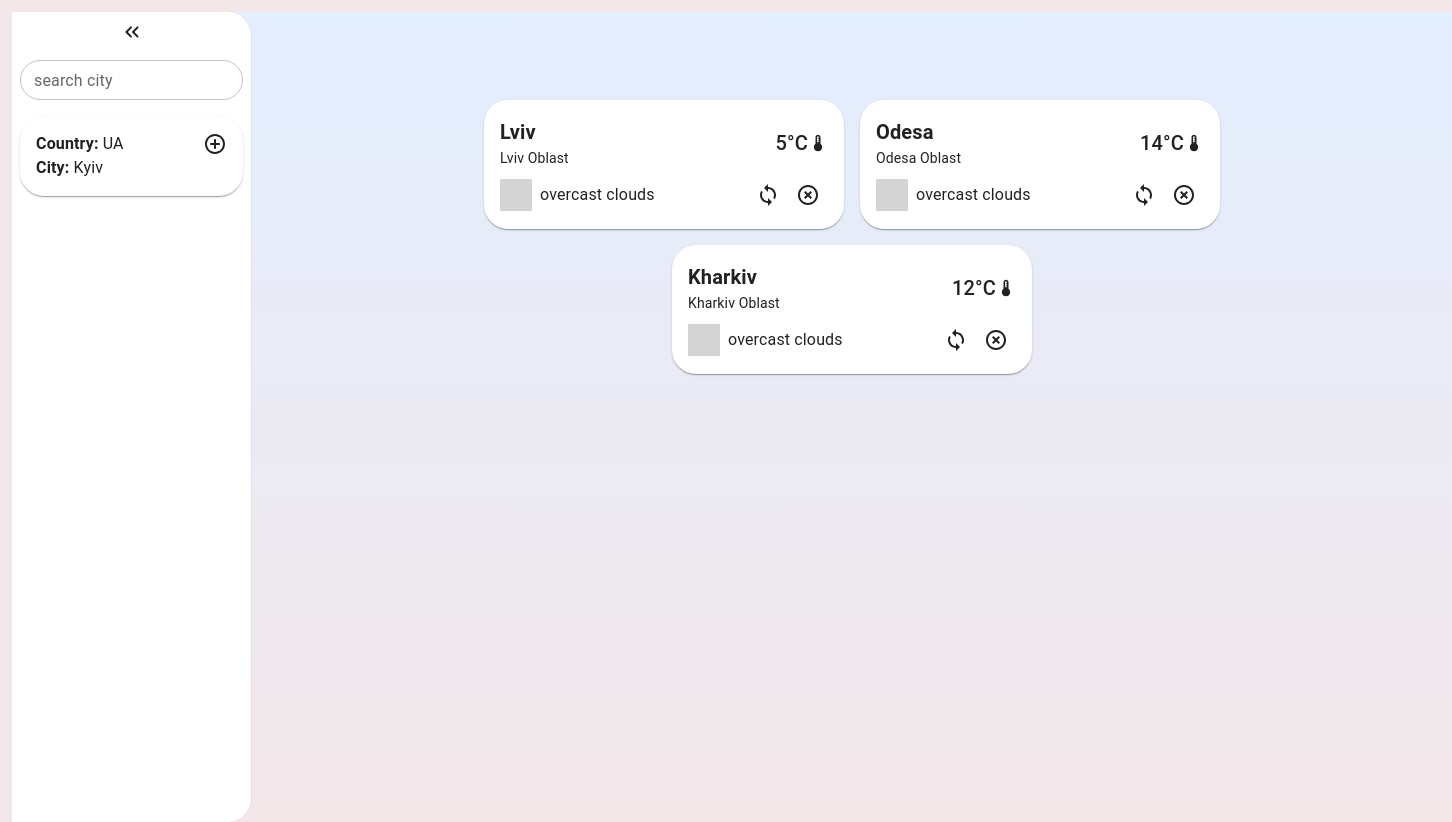
Scenario: Main layout: › should remove city after delete button has been clicked
Expected: the number of elements with test id "weatherCard" is 3, [484,100,844,229]; [860,100,1220,229]; [672,245,1032,374]
Click the text "City: Kyiv" at (70, 168), box [36,158,103,177]
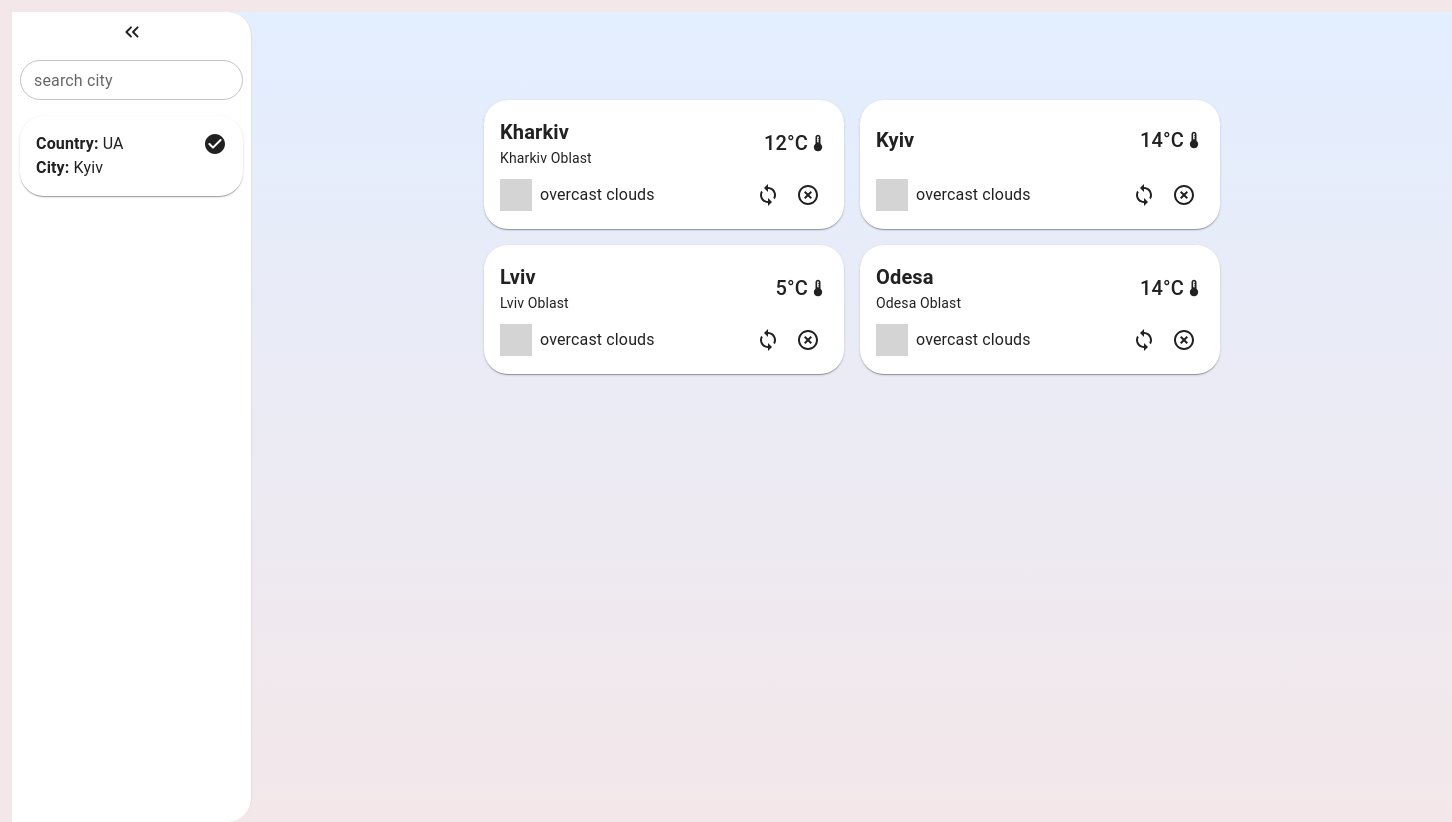
Expected: the number of elements with test id "weatherCard" is 4, [484,100,844,229]; [860,100,1220,229]; [484,245,844,374]; [860,245,1220,374]
